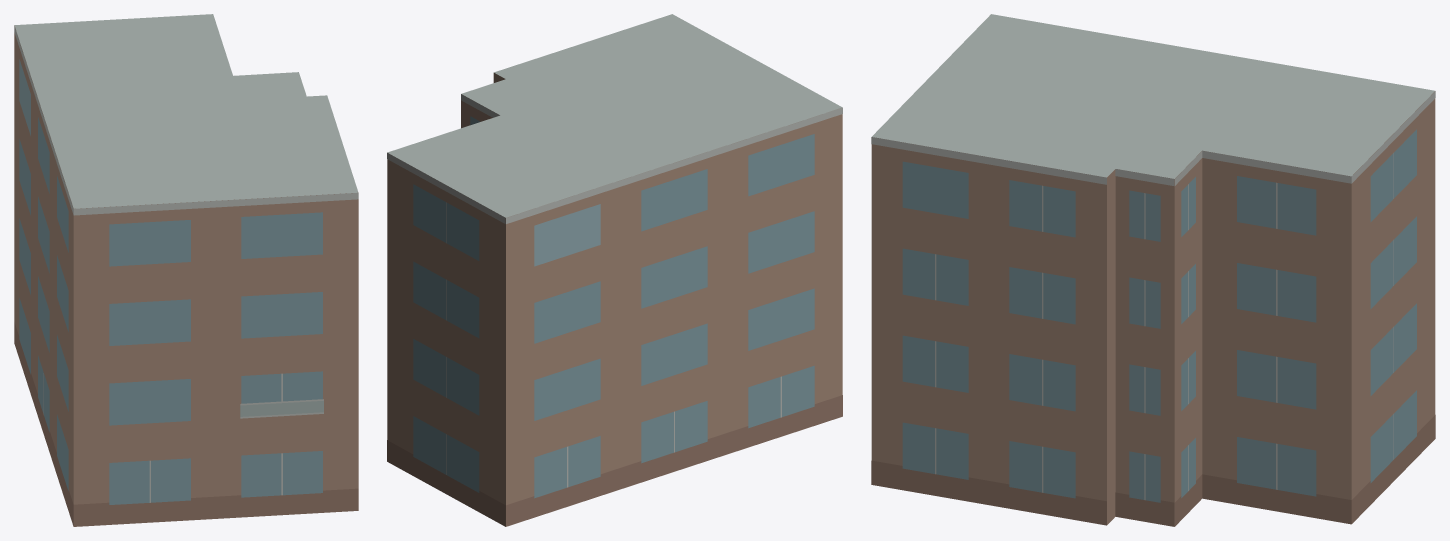
Rendered from survey-upis-32813108.glb.
3 renders of one model, left to right at view 1: azimuth 30°, elevation 25°; view 2: azimuth 150°, elevation 25°; view 3: azimuth 270°, elevation 25°, orthographic. The views are drawn at different scales.
Parts seen in each view (by area): view 1: survey-upis-32813108.tmp; view 2: survey-upis-32813108.tmp; view 3: survey-upis-32813108.tmp.
Boxes of the visible parts, box(x1,y1,x2,y2) form: survey-upis-32813108.tmp: box(14, 14, 358, 526); survey-upis-32813108.tmp: box(387, 14, 842, 526); survey-upis-32813108.tmp: box(871, 14, 1435, 526).
Bounding box in the file's own units: 11.8 × 11.6 × 17.05.
